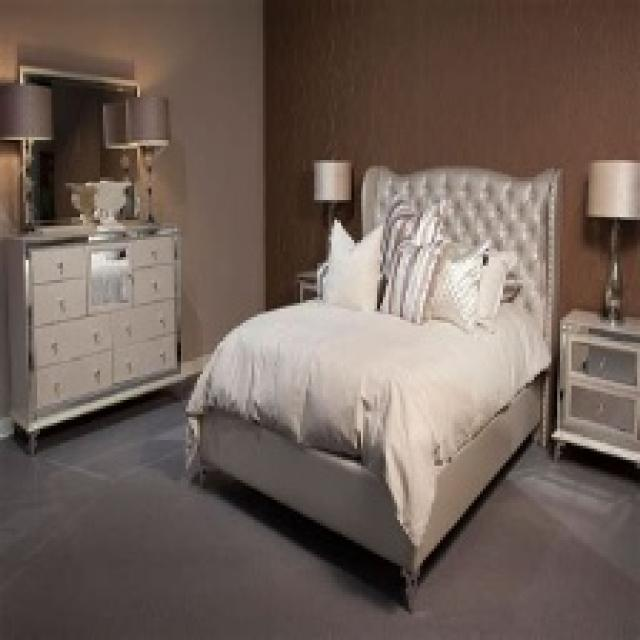Bed: (183, 163, 563, 611)
